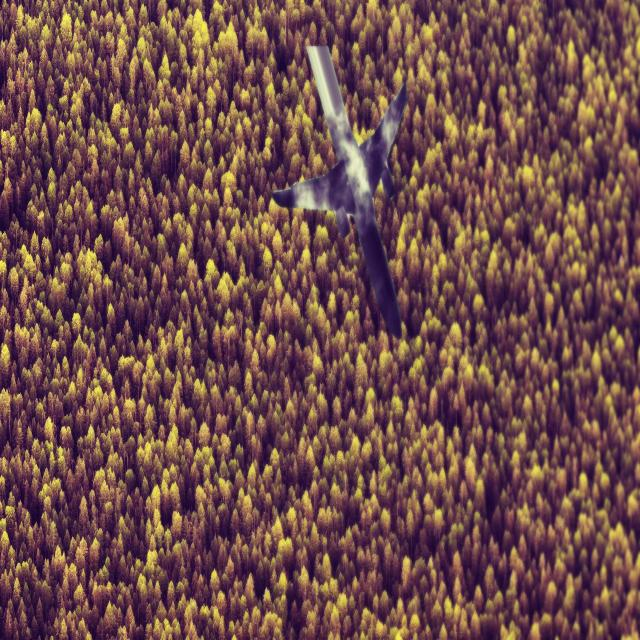airplane: (271, 44, 408, 339)
